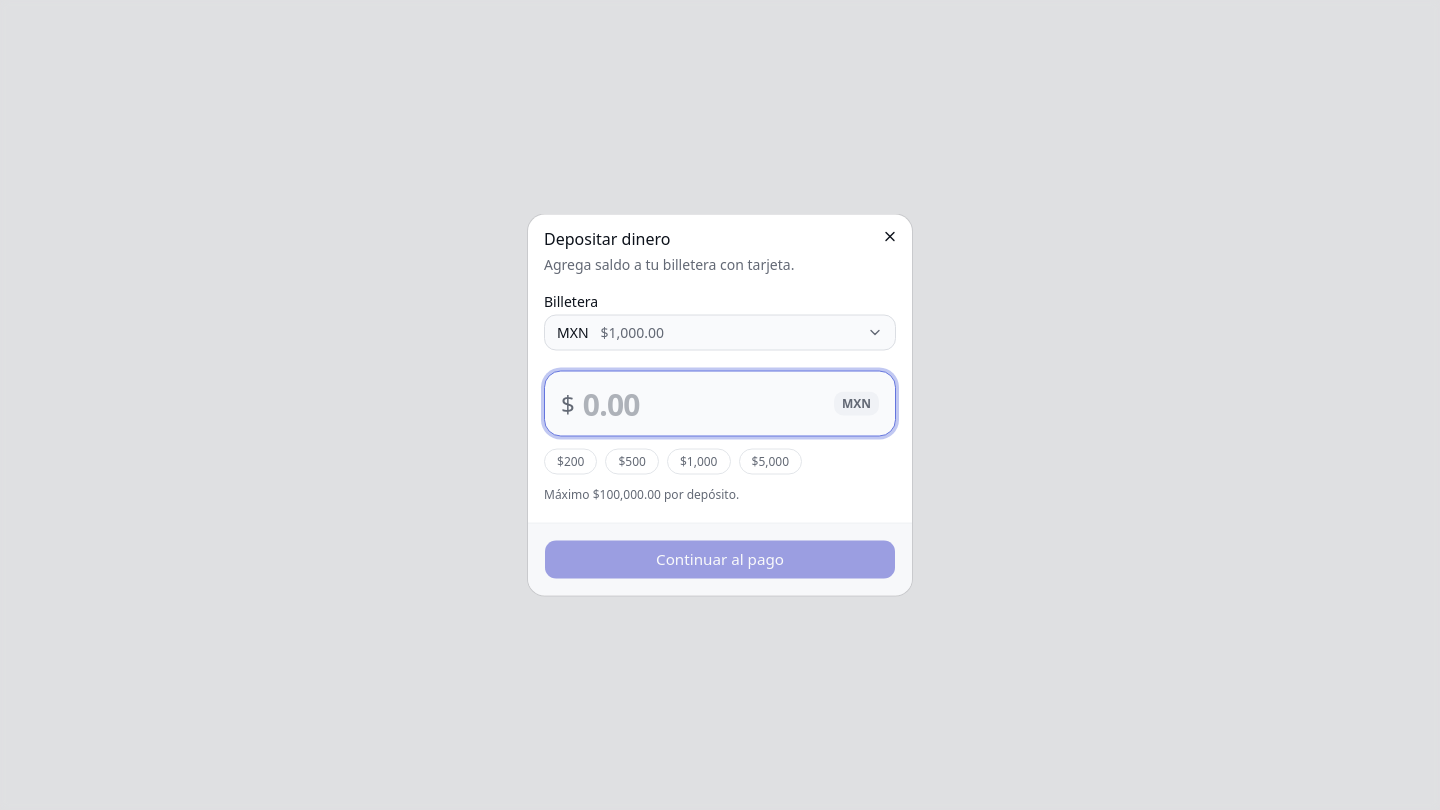
Test case: DepositDialog › explains a rejected deposit
In the field named "Monto": point(704, 404) [583, 372, 826, 436], type "500"
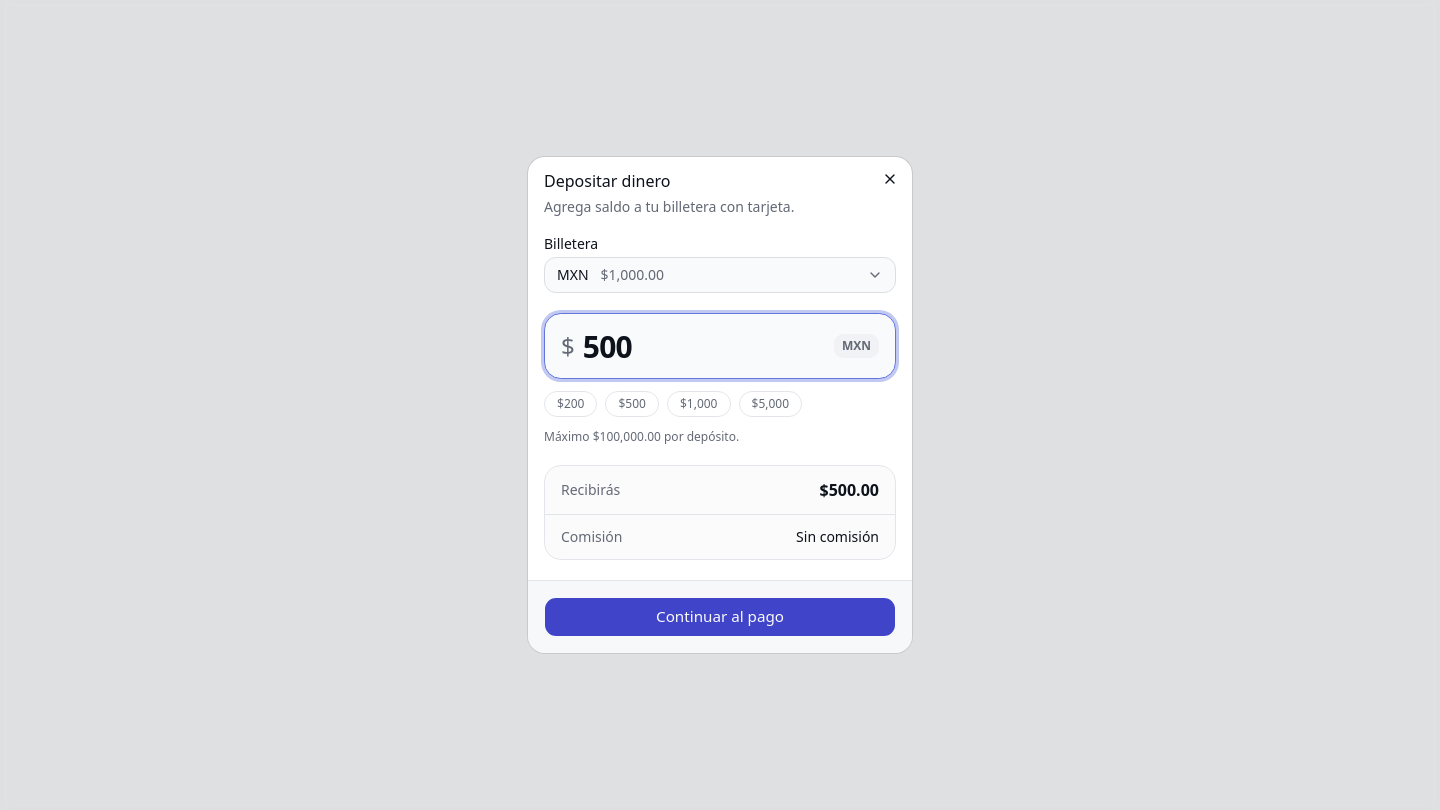
Click the button "Continuar al pago": point(720, 617) [544, 597, 896, 637]
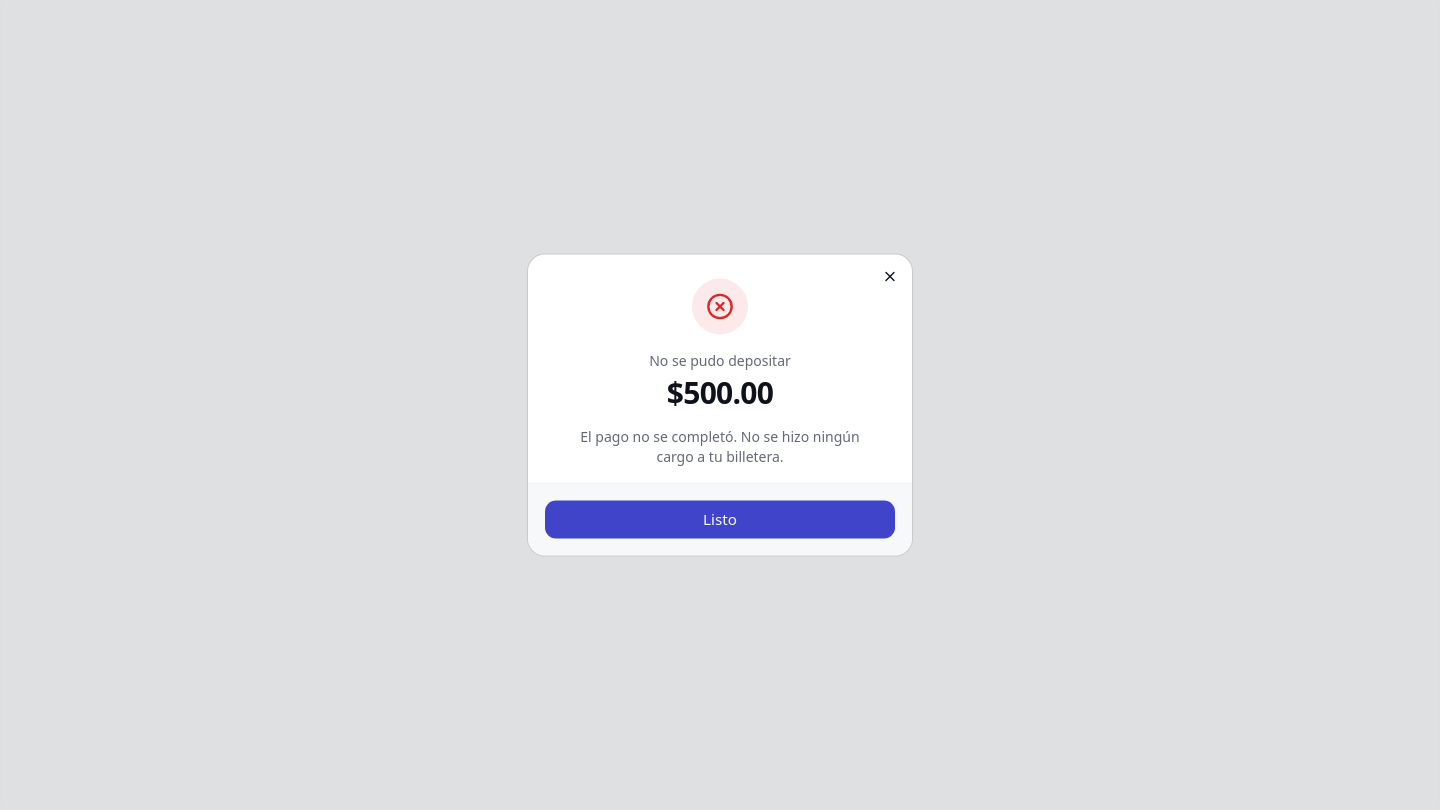
Now the text "No se pudo depositar" is shown, box [649, 350, 791, 370]
Now the text "No se hizo ningún cargo" is shown, box [580, 426, 860, 466]
